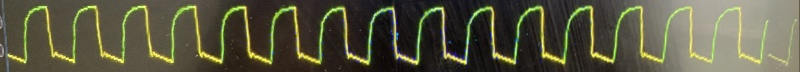normal_pressure: (0, 0, 761, 72)
